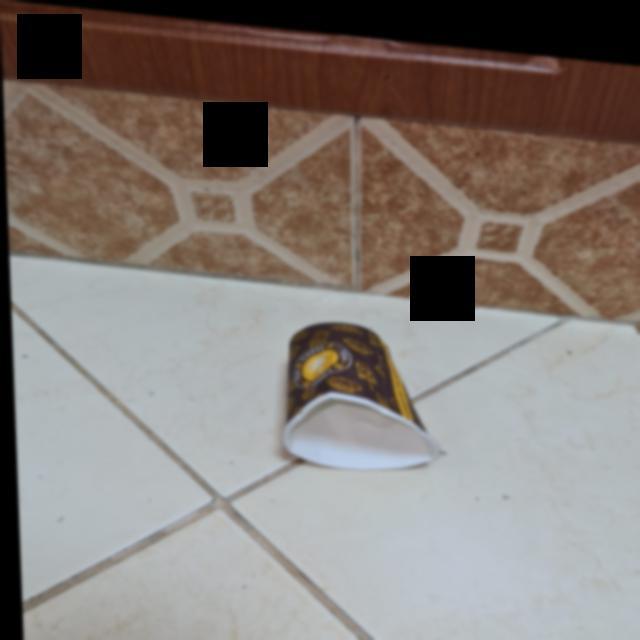cups: (274, 311, 441, 465)
